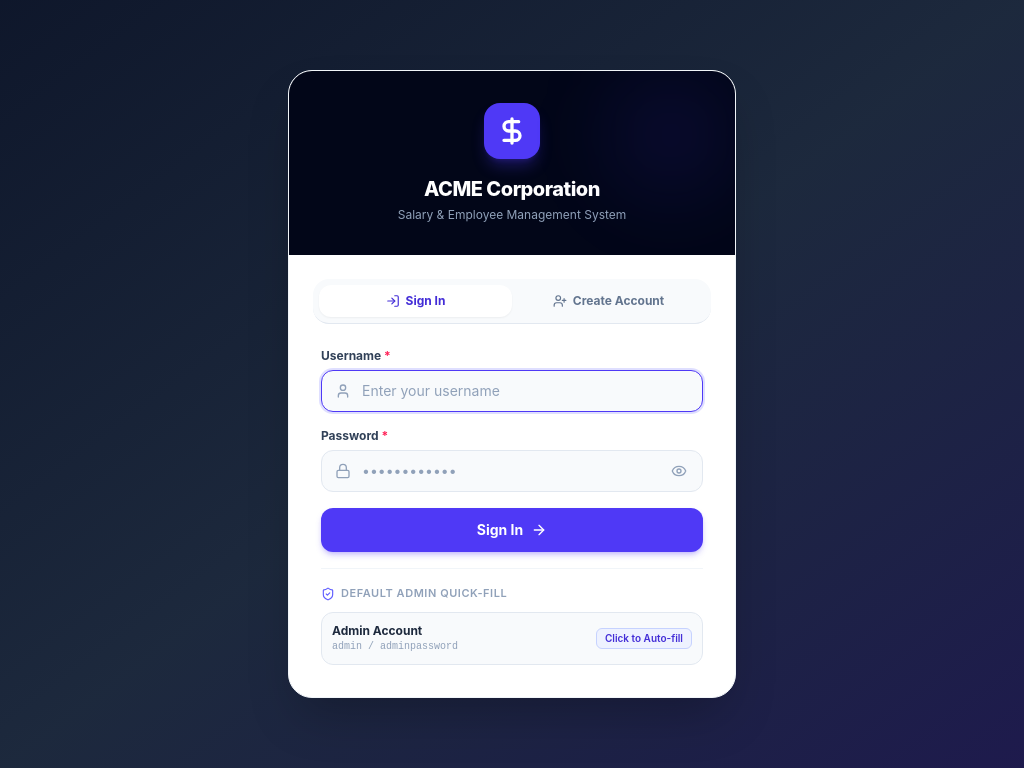
LoginPage Component & Edge Cases › should switch to Create Account tab and reveal Full Name and Confirm Password fields
Click the button with test id "signup-tab": coordinates (608, 301) x1=512 y1=285 x2=705 y2=317
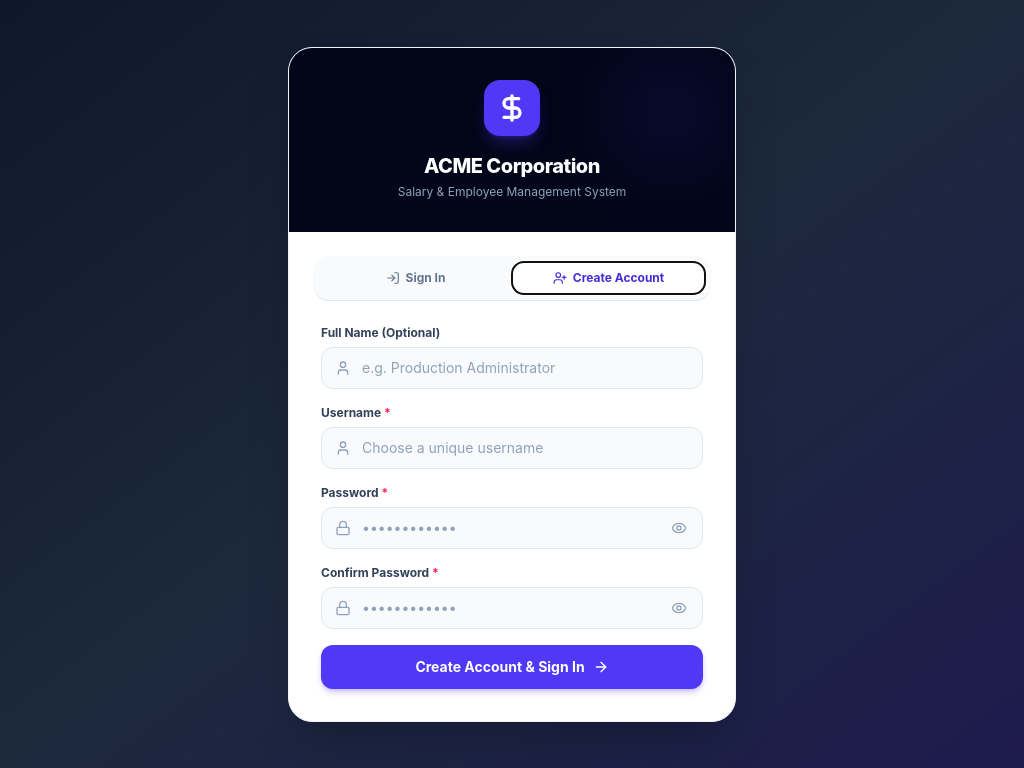
Now the field with placeholder "e.g. Production Administrator" is shown, box x1=321 y1=346 x2=703 y2=388
Now the button "Create Account & Sign In" is shown, box x1=321 y1=644 x2=703 y2=688
Now the number of password fields with placeholder "••••••••••••" is 2, box x1=321 y1=506 x2=703 y2=548; x1=321 y1=586 x2=703 y2=628
